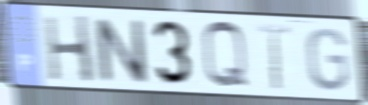3: (150, 18, 195, 89)
G: (305, 26, 351, 93)
H: (40, 13, 97, 86)
N: (91, 15, 152, 86)
Q: (199, 18, 252, 92)
T: (254, 21, 294, 93)
